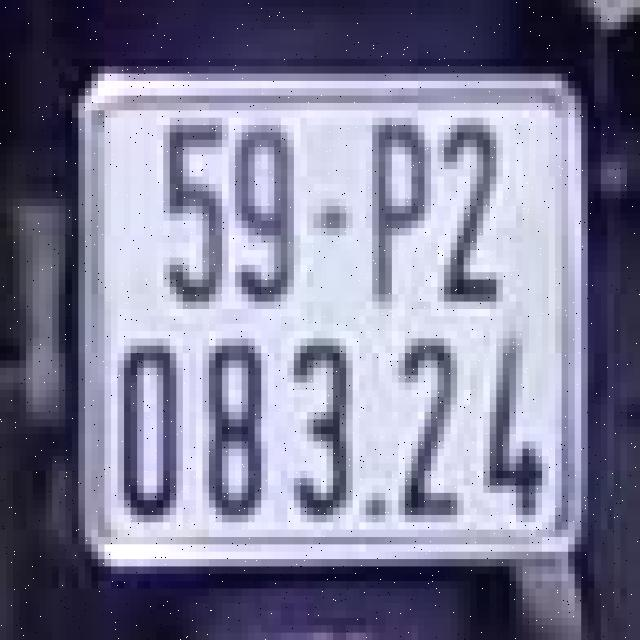0: (111, 331, 189, 530)
2: (386, 323, 470, 530), (437, 99, 503, 313)
3: (288, 324, 360, 522)
4: (476, 320, 548, 533)
5: (160, 107, 232, 320)
8: (206, 323, 271, 530)
9: (228, 114, 300, 313)
P: (362, 110, 434, 316)
